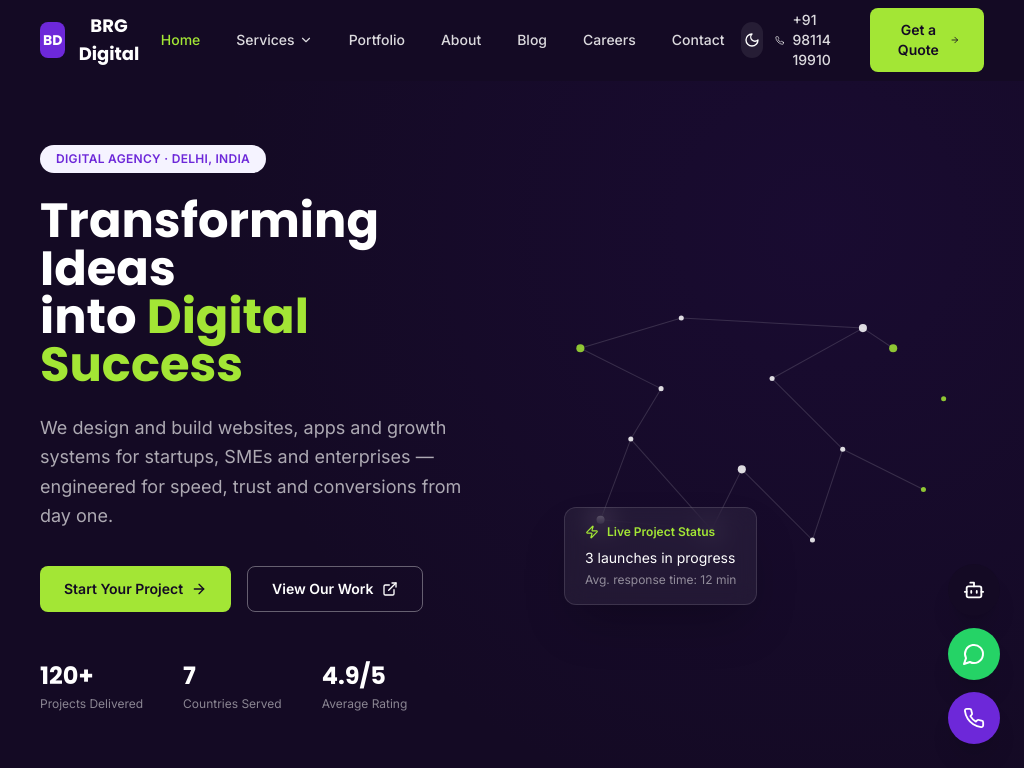
Test: Blog search › shows an empty state when no articles match
Click the button "Blog". click: (532, 40)
box: [501,22,563,58]
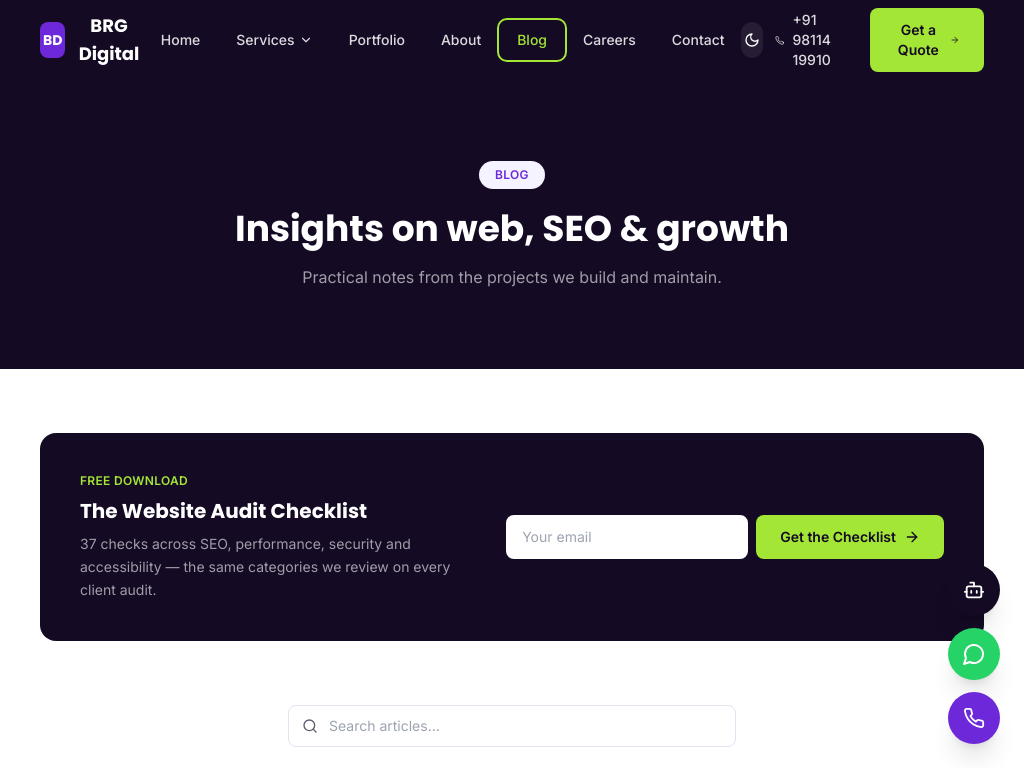
Type "zzz-no-match-zzz" into the search field named "search blog articles". click: (512, 726)
box: [288,705,736,747]
(page scrolled)
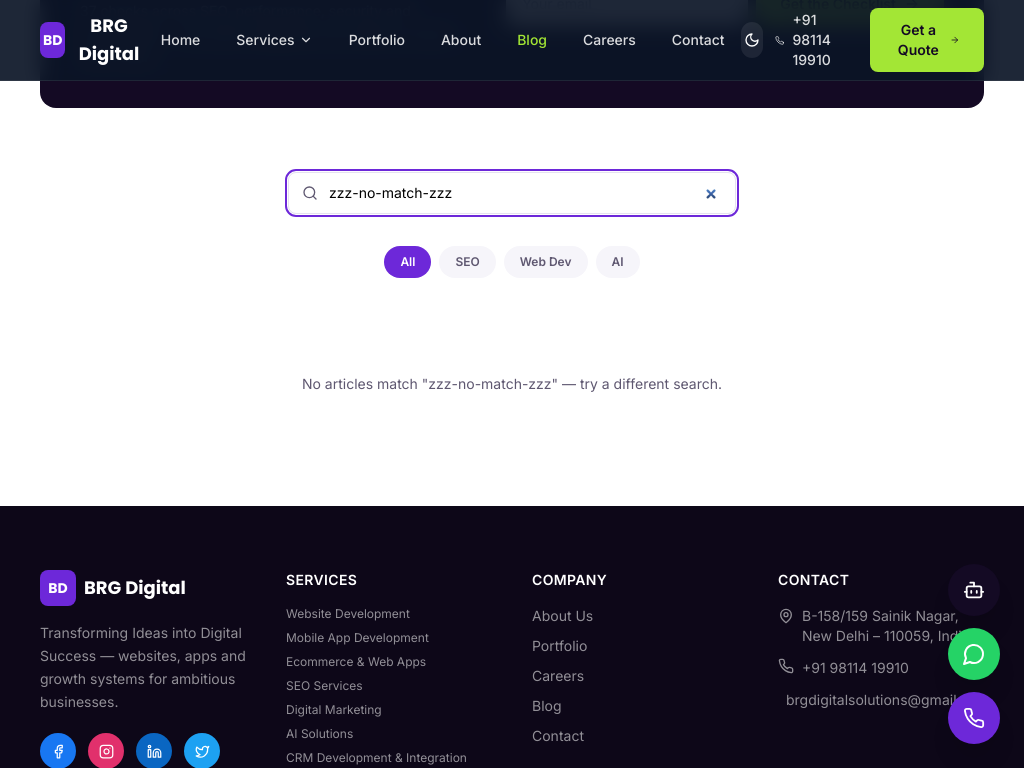
expect the text "No articles match" is shown: met, box [302,375,428,392]
